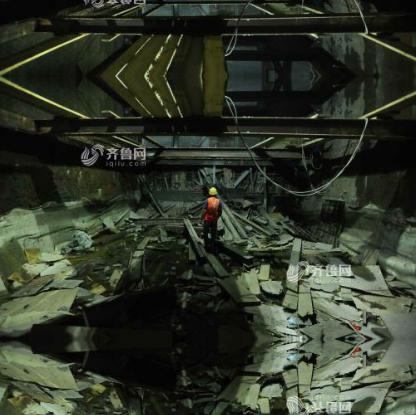Safety Helmet: (206, 184, 221, 204)
